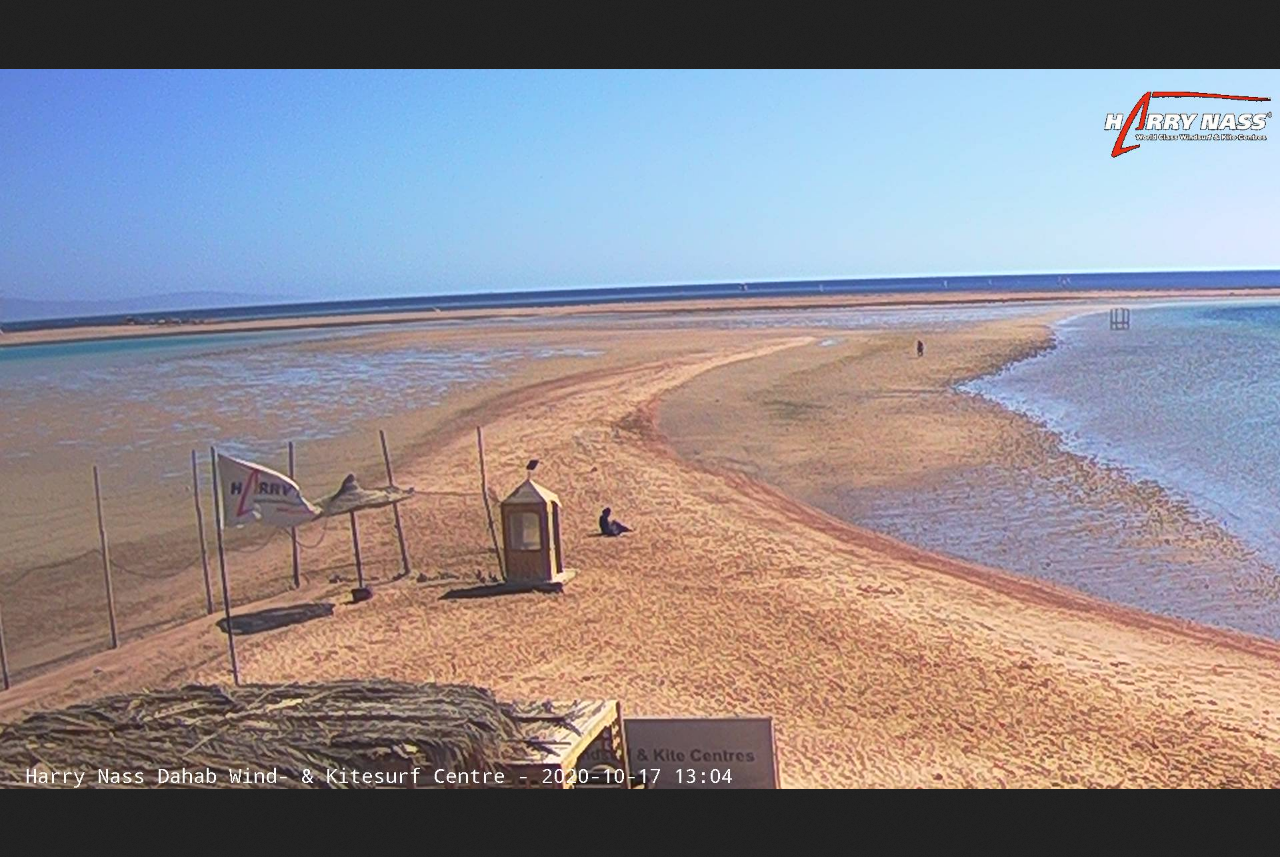maybe: (218, 453, 321, 530)
